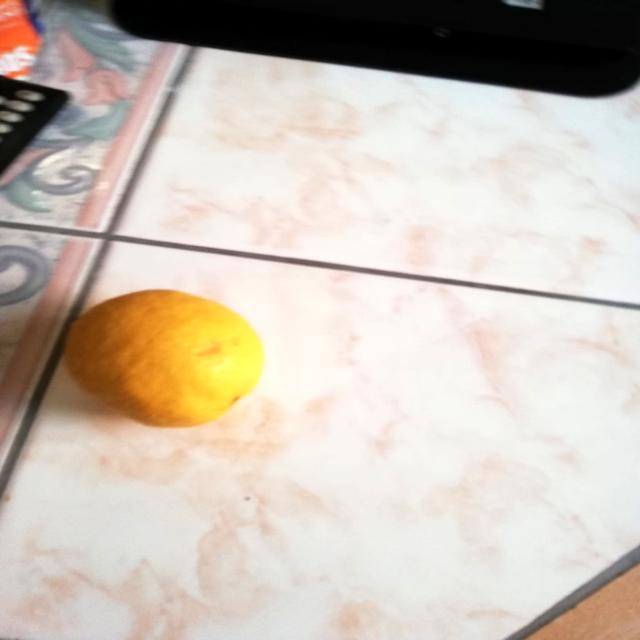lemon: (53, 282, 276, 436)
